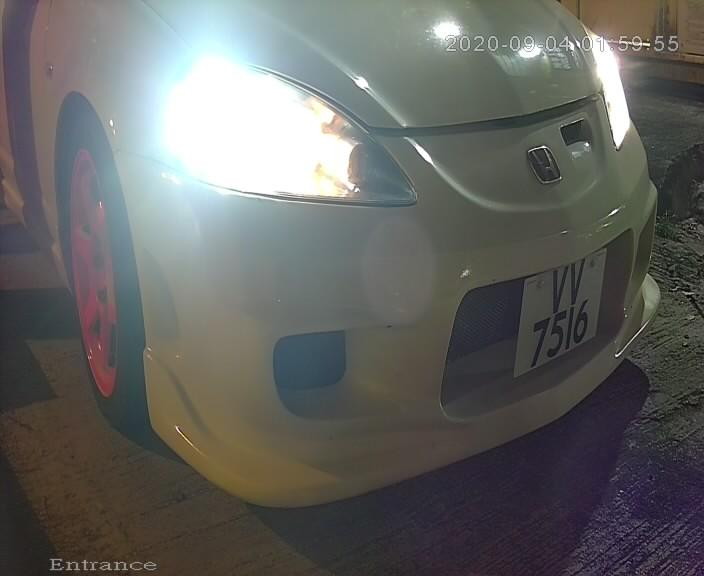License Plate: (516, 227, 604, 391)
